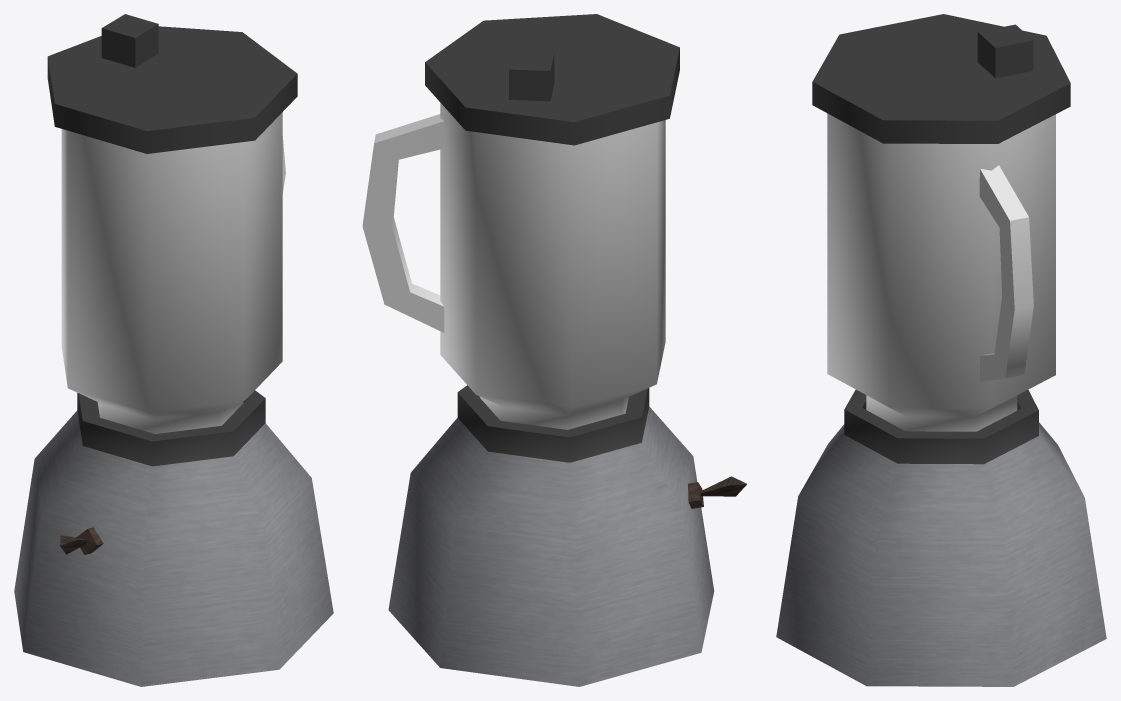
3 renders of one model, left to right at view 1: azimuth 30°, elevation 25°; view 2: azimuth 150°, elevation 25°; view 3: azimuth 270°, elevation 25°, orthographic. The views are drawn at different scales.
Visible parts, largest first — view 1: Licuadora001_Metal_03001_0, Baso001_Material008_0, Tapa001_Plastic_02001_0, Licuadora001_Plastic_02001_0, Licuadora001_Material013_0; view 2: Baso001_Material008_0, Licuadora001_Metal_03001_0, Tapa001_Plastic_02001_0, Licuadora001_Plastic_02001_0, Licuadora001_Material013_0; view 3: Licuadora001_Metal_03001_0, Baso001_Material008_0, Tapa001_Plastic_02001_0, Licuadora001_Plastic_02001_0.
Boxes of the visible parts, x1,y1,x2,y2 form: Licuadora001_Metal_03001_0: (14,410,333,686); Baso001_Material008_0: (61,112,285,433); Tapa001_Plastic_02001_0: (47,14,297,153); Licuadora001_Plastic_02001_0: (77,390,265,466); Licuadora001_Material013_0: (59,527,103,554); Baso001_Material008_0: (362,103,665,429); Licuadora001_Metal_03001_0: (388,407,714,686); Tapa001_Plastic_02001_0: (425,14,679,145); Licuadora001_Plastic_02001_0: (457,385,649,462); Licuadora001_Material013_0: (688,476,746,508); Licuadora001_Metal_03001_0: (776,422,1106,686); Baso001_Material008_0: (827,113,1055,431); Tapa001_Plastic_02001_0: (812,14,1070,143); Licuadora001_Plastic_02001_0: (844,389,1038,464).
Bounding box in the file's own units: 0.2705 × 0.4889 × 0.2514.
4 materials, 2 textured.
